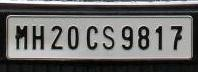0: (66, 25, 80, 50)
1: (154, 25, 164, 51)
2: (49, 25, 63, 49)
7: (169, 25, 183, 51)
8: (136, 25, 151, 50)
9: (120, 25, 135, 51)
C: (85, 25, 98, 50)
H: (31, 25, 45, 50)
M: (15, 25, 27, 50)
S: (101, 25, 115, 50)
